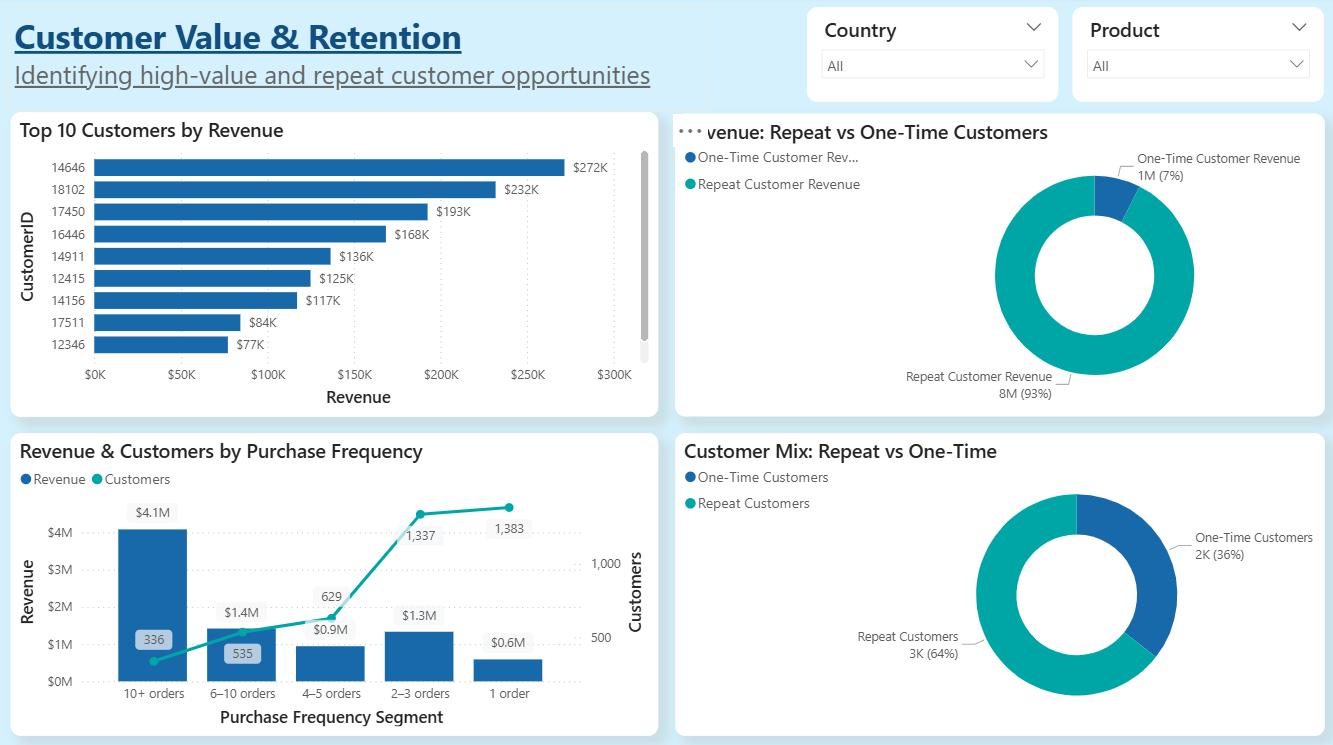

The dashboard page shown, as its layout file describes it:
{"tool":"powerbi","page":{"name":"Customer Performance","canvas":[1280,720],"ordinal":3},"visuals":[{"type":"barChart","title":"Top 10 Customers by Revenue","fields":{"Category":["Online Retail Data Set.CustomerID"],"Y":["Online Retail Data Set.Total Revenue"]},"box":[12.7,111.3,618.7,291.1],"z":0},{"type":"donutChart","title":"Customer Mix: Repeat vs One-Time","fields":{"Y":["Online Retail Data Set.One-Time Customers","Online Retail Data Set.Repeat Customers"]},"box":[647.4,418.3,620.3,289.5],"z":1000},{"type":"donutChart","title":"Revenue: Repeat vs One-Time Customers","fields":{"Y":["Calendar.One-Time Customer Revenue","Calendar.Repeat Customer Revenue"]},"box":[647.4,112.9,620.3,289.5],"z":2000},{"type":"lineStackedColumnComboChart","title":"Revenue & Customers by Purchase Frequency","fields":{"Category":["Online Retail Data Set.Purchase Frequency Segment"],"Y":["Online Retail Data Set.Total Revenue"],"Y2":["Online Retail Data Set.Customers"]},"box":[12.7,418.3,618.7,289.5],"z":3000},{"type":"slicer","fields":{"Values":["Online Retail Data Set.Description"]},"box":[1027.5,11.1,240.2,90.7],"z":4000},{"type":"textbox","box":[11.1,11.1,669.6,100.2],"z":5000},{"type":"slicer","fields":{"Values":["Online Retail Data Set.Country"]},"box":[773,11.1,240.2,90.7],"z":6000}]}

Visuals, with their boxes in screenshot pixels (x1, y1, x2, y2), scaled from the page's 1280x720 canvas onto the 1333x745 screenshot:
"Top 10 Customers by Revenue" barChart: 13, 115, 658, 416
"Customer Mix: Repeat vs One-Time" donutChart: 674, 433, 1320, 732
"Revenue: Repeat vs One-Time Customers" donutChart: 674, 117, 1320, 416
"Revenue & Customers by Purchase Frequency" lineStackedColumnComboChart: 13, 433, 658, 732
slicer - Online Retail Data Set.Description: 1070, 11, 1320, 105
textbox: 12, 11, 709, 115
slicer - Online Retail Data Set.Country: 805, 11, 1055, 105
